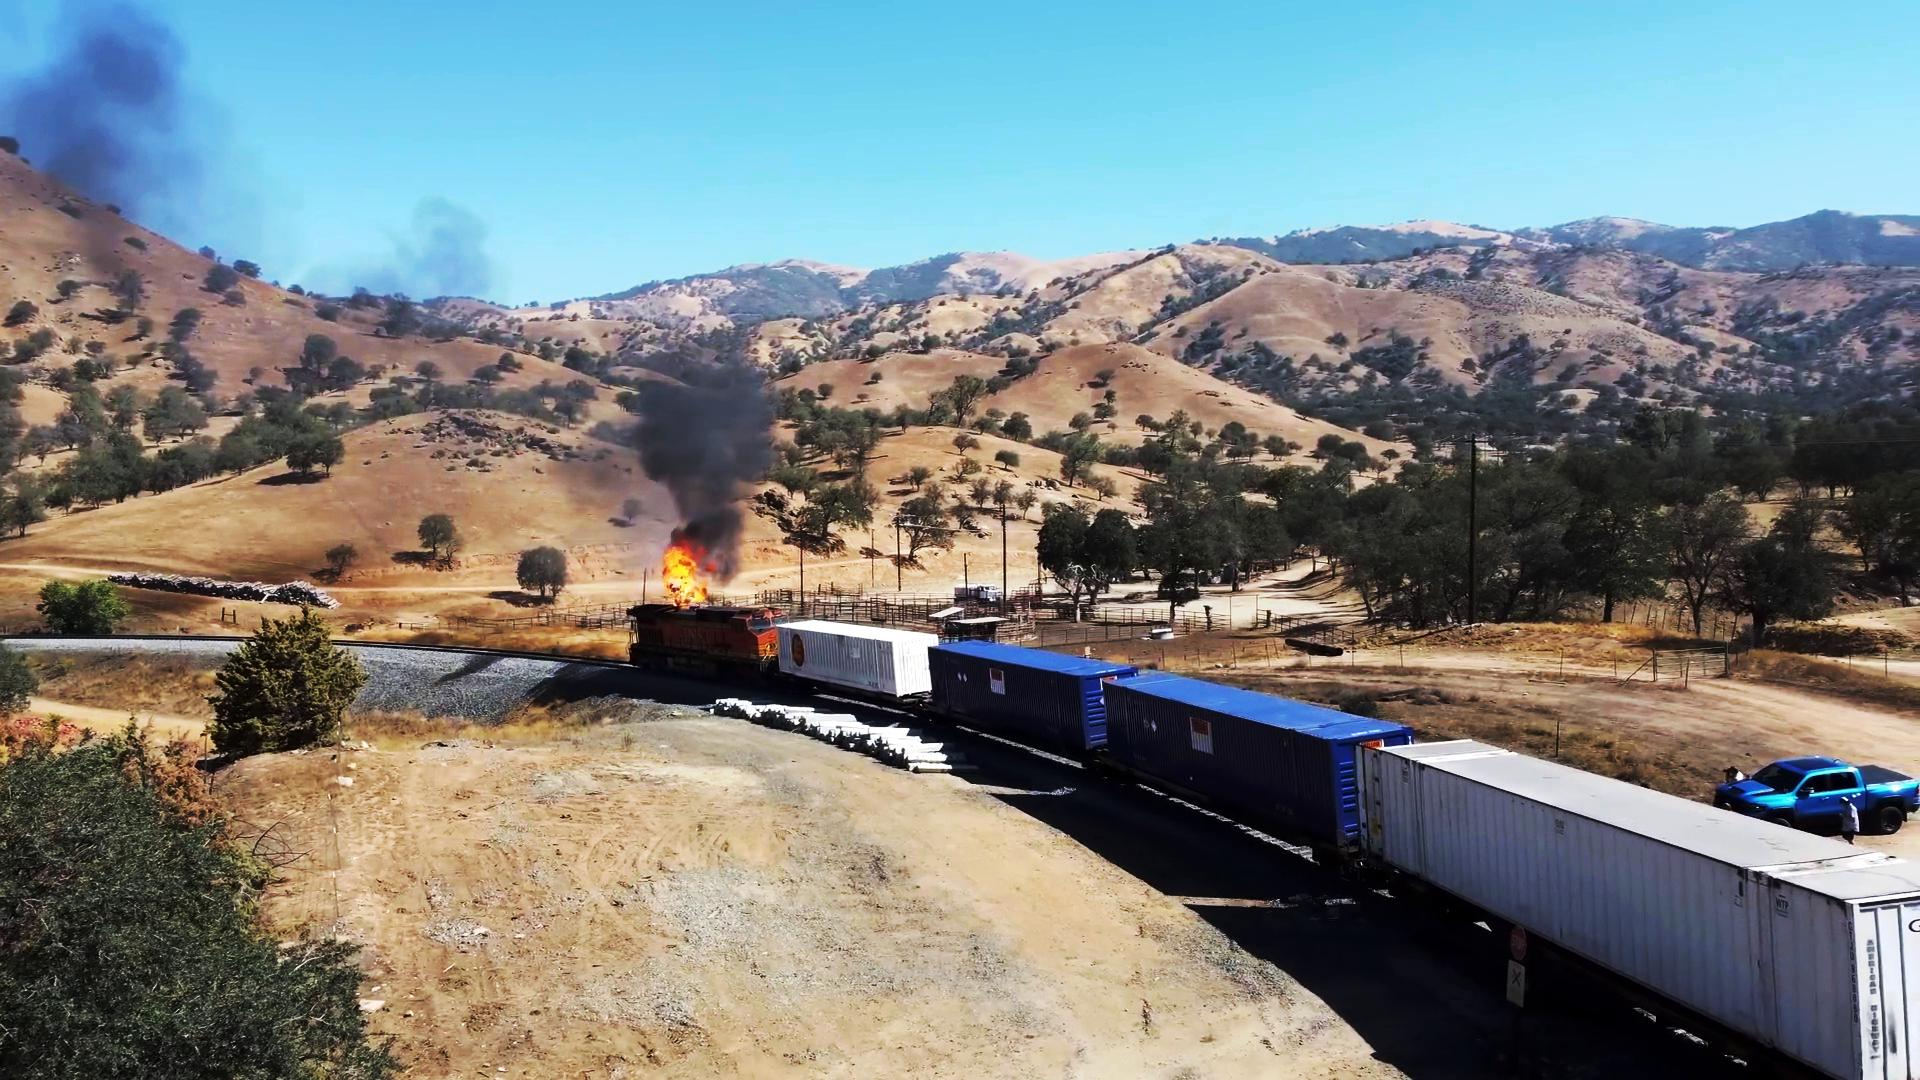fire: (642, 538, 709, 604)
smoke: (644, 323, 779, 537)
